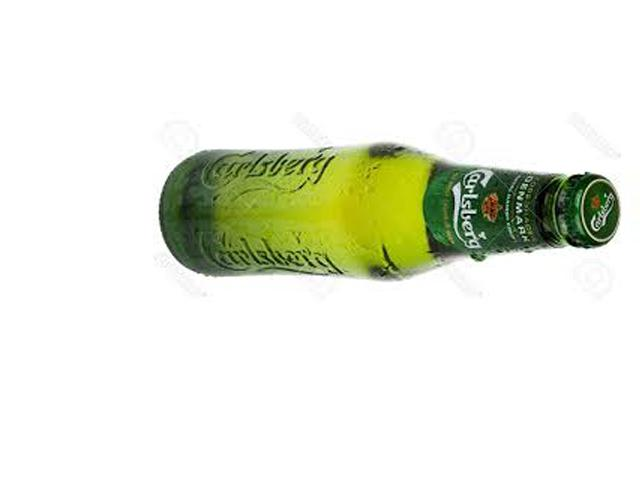beer: (156, 142, 620, 280)
